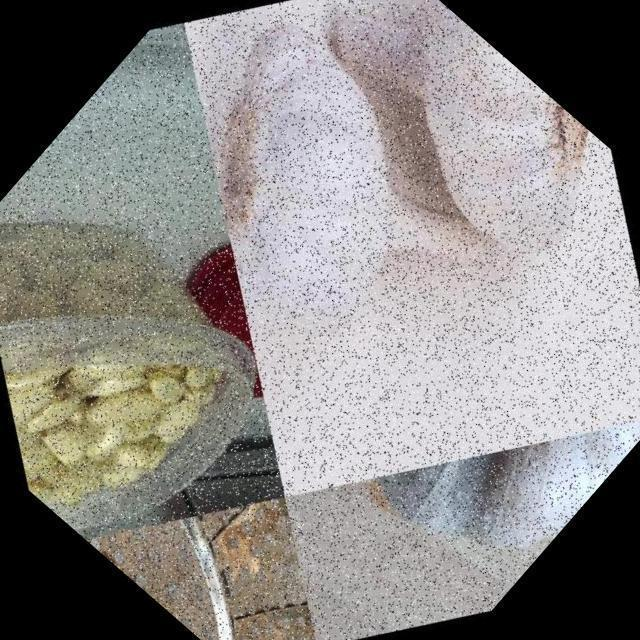garlic: (60, 0, 624, 455), (0, 106, 358, 589), (204, 0, 640, 388), (304, 287, 640, 640), (64, 479, 245, 640)
